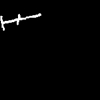double_crochet: (1, 14, 40, 29)
